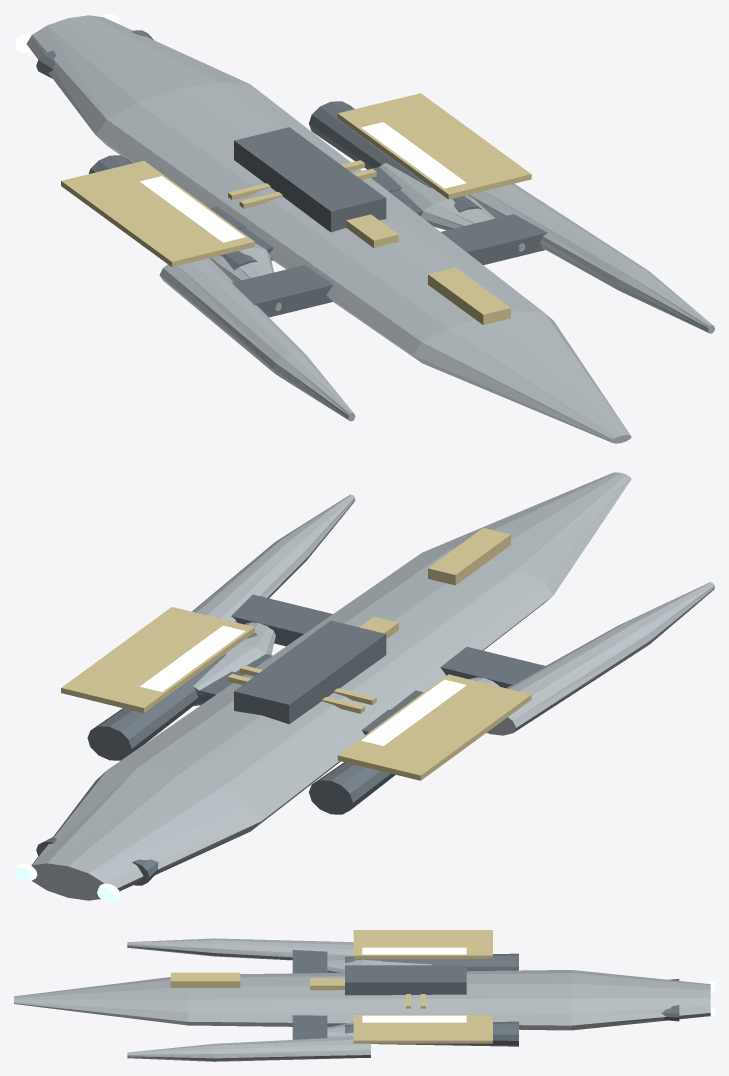
3 views of the same model, one above another, from view 1: azimuth 30°, elevation 25°; view 2: azimuth 150°, elevation 25°; view 3: azimuth 270°, elevation 25° (orthographic). The views are drawn at different scales.
Bounding box in the file's own units: 6.58 × 1.13 × 16.74.
